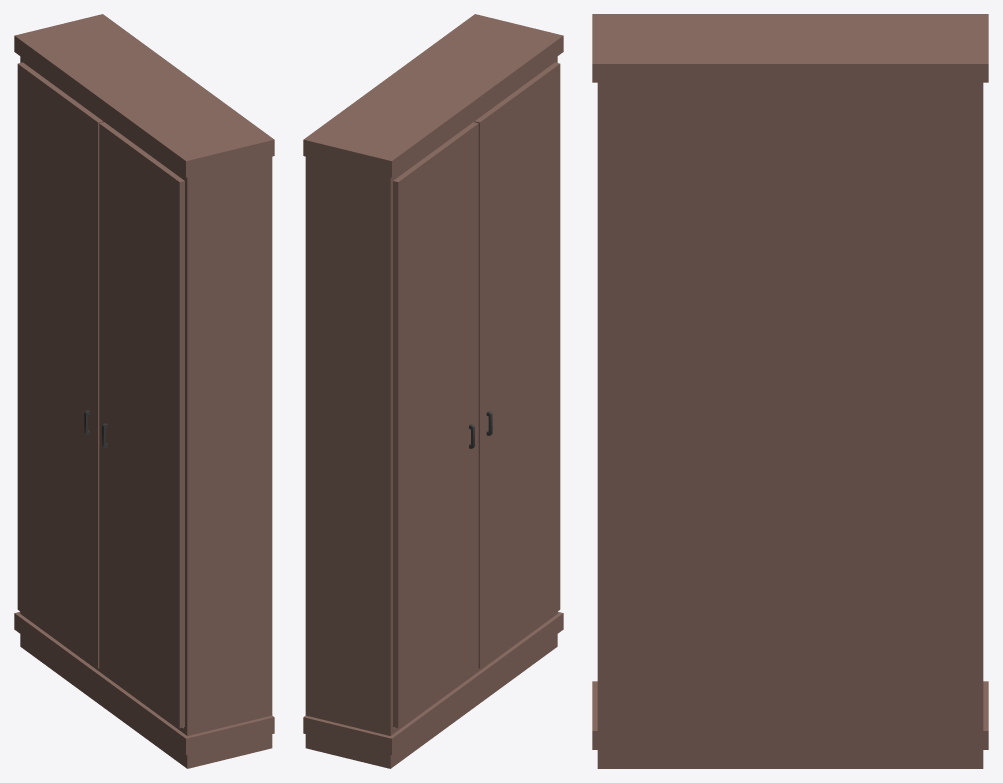
File: Bookcase16.fbx
3 renders of one model, left to right at view 1: azimuth 30°, elevation 25°; view 2: azimuth 150°, elevation 25°; view 3: azimuth 270°, elevation 25°, orthographic. The views are drawn at different scales.
Visible parts, largest first — view 1: Bookcase16, Cube.024, Cube.025; view 2: Bookcase16, Cube.025, Cube.024; view 3: Bookcase16.
Boxes of the visible parts, left/top/right/bottom form: Bookcase16: left=14, top=14, right=274, bottom=768; Cube.024: left=99, top=122, right=184, bottom=727; Cube.025: left=17, top=62, right=103, bottom=668; Bookcase16: left=303, top=14, right=563, bottom=768; Cube.025: left=393, top=122, right=478, bottom=727; Cube.024: left=474, top=62, right=560, bottom=668; Bookcase16: left=592, top=14, right=988, bottom=768.
Bounding box in the file's own units: 0.3002 × 0.9482 × 1.86.
